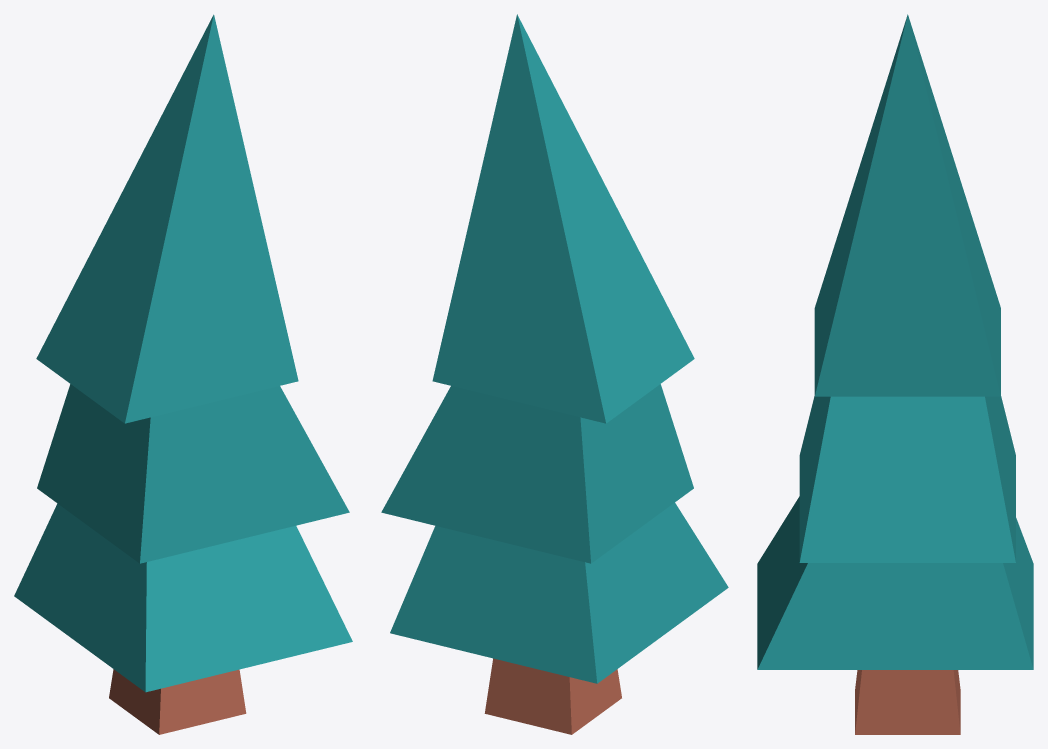
The model's file is tree_pineSmallC.glb.
The picture shows the model from 3 angles, left to right: view 1: azimuth 30°, elevation 25°; view 2: azimuth 150°, elevation 25°; view 3: azimuth 270°, elevation 25°; orthographic projection. The views are drawn at different scales.
Visible parts, largest first — view 1: tree_pineSmallC; view 2: tree_pineSmallC; view 3: tree_pineSmallC.
Part boxes in pixels (x1,y1,x2,y2): tree_pineSmallC: (14,14,352,734); tree_pineSmallC: (381,14,728,734); tree_pineSmallC: (757,14,1033,734).
Size of the model in its own units: 0.3863 by 1.12 by 0.3919.
